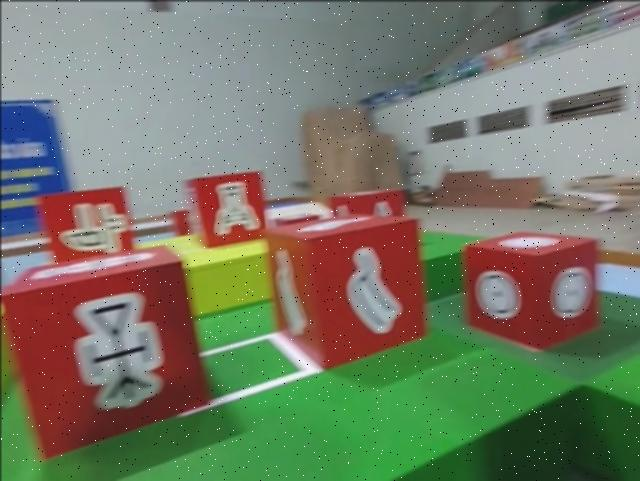R2 Real: (0, 241, 212, 459), (262, 210, 430, 370), (463, 228, 599, 348), (36, 180, 136, 271), (181, 167, 266, 249)
